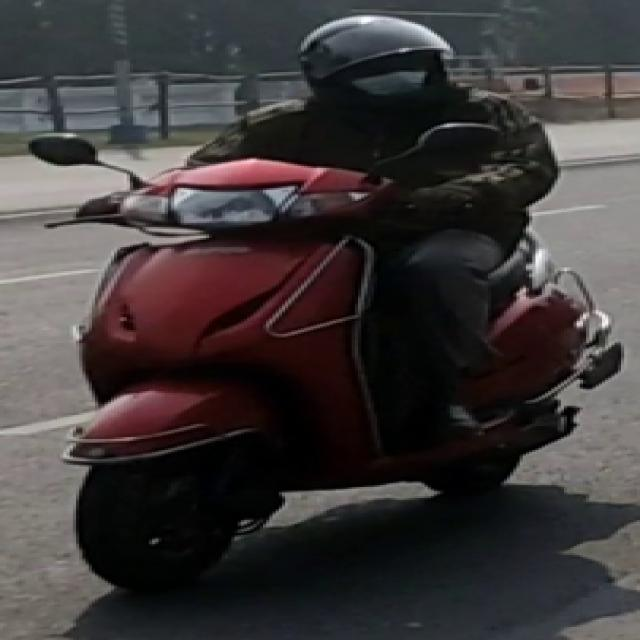Motorized2wheleer: (16, 130, 614, 617)
